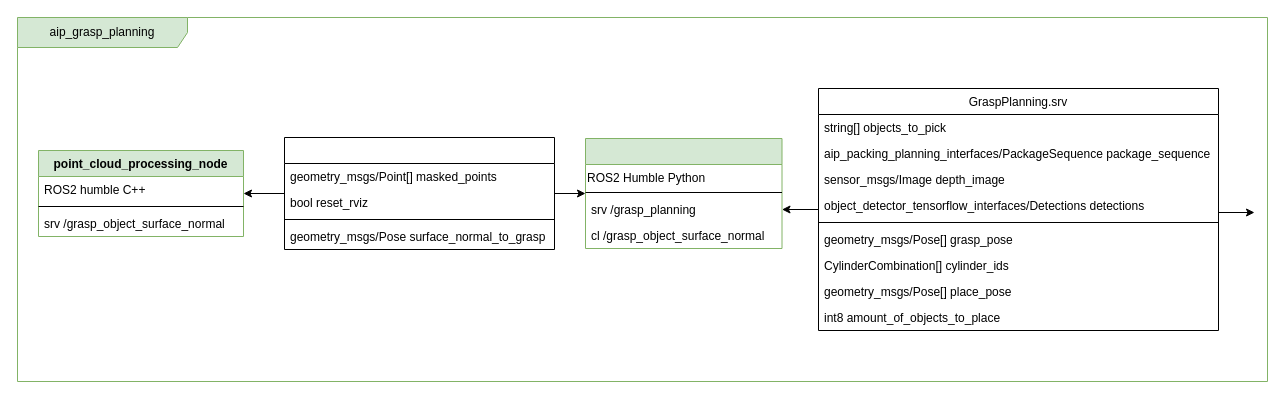
Some shapes in this 1285 by 399 pixel diagram are drawn without their labels. Each missing label, with the box of its shape:
grasp_planning_node: (584, 138, 782, 248)
GraspObjectSurfaceNormal.srv: (284, 136, 554, 250)
